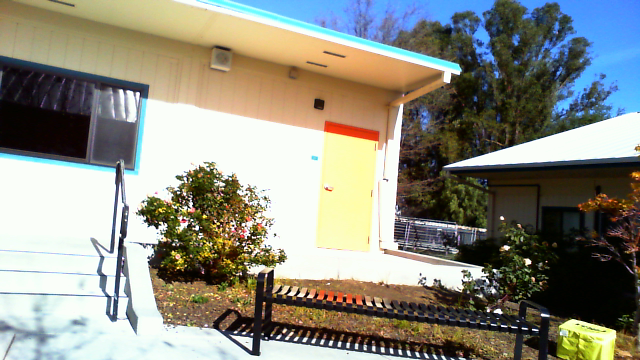cube: (557, 318, 617, 360)
